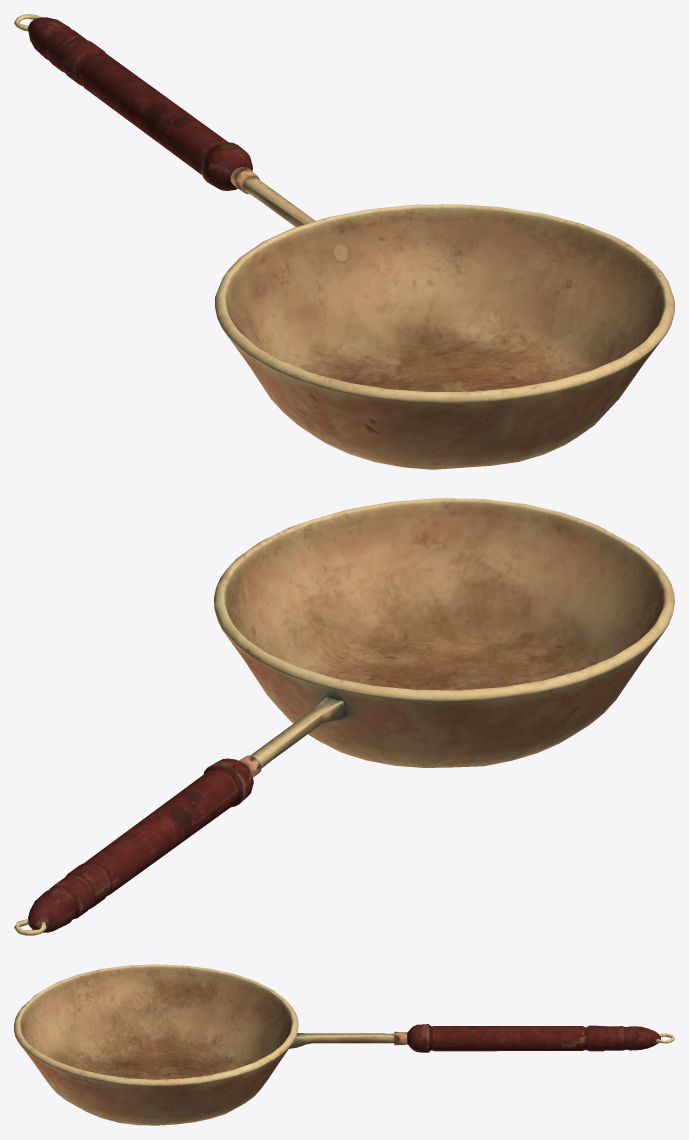
Rendered from frying_pan.glb.
3 renders of one model, top to bottom at view 1: azimuth 30°, elevation 25°; view 2: azimuth 150°, elevation 25°; view 3: azimuth 270°, elevation 25°, orthographic. The views are drawn at different scales.
Parts seen in each view (by area): view 1: brass_pan_01; view 2: brass_pan_01; view 3: brass_pan_01.
Part boxes in pixels (x1,y1,x2,y2): brass_pan_01: [14, 14, 674, 469]; brass_pan_01: [14, 498, 674, 935]; brass_pan_01: [14, 964, 674, 1125].
Bounding box in the file's own units: 0.1913 × 0.0523 × 0.4497.
1 material, 1 textured.
